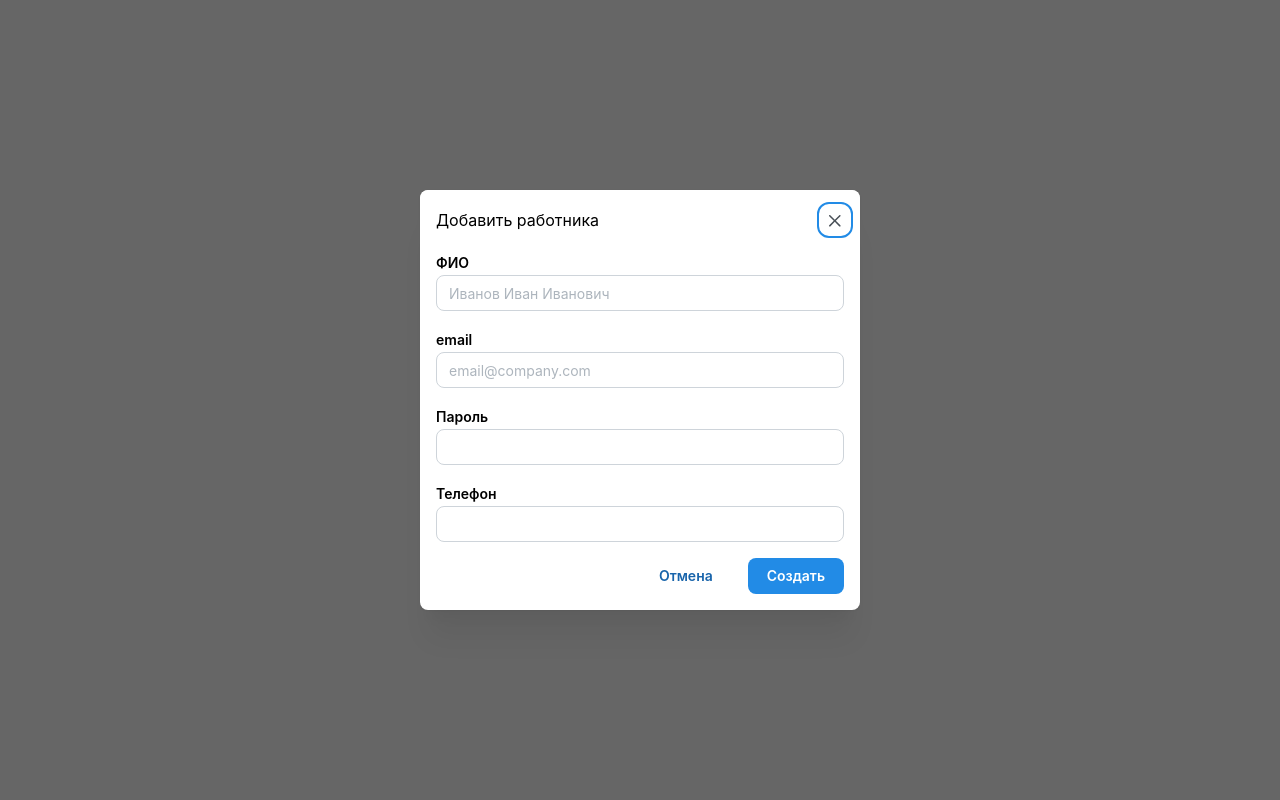
Test: AddWorkersModal › показывает ошибки валидации при пустом вводе
Click the button "Создать".
click(796, 576)  # box [748,558,844,594]
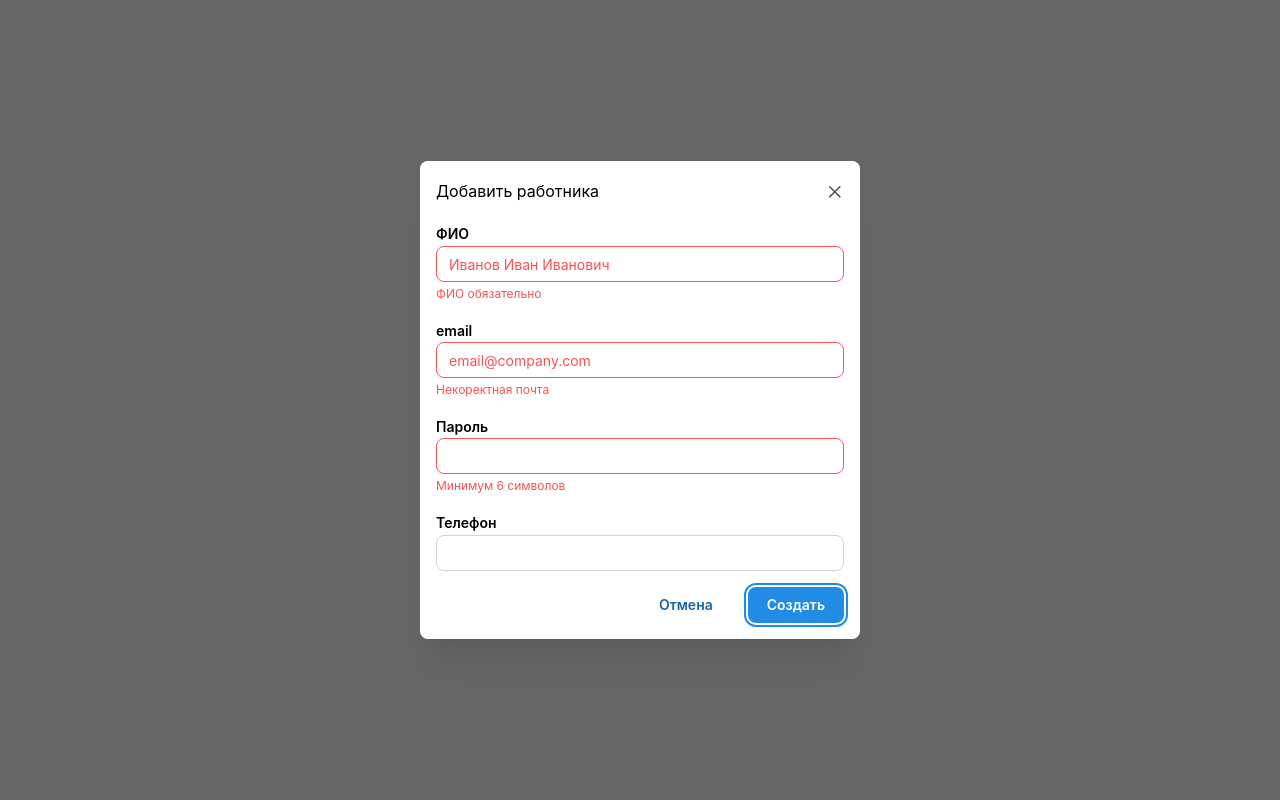
Expected: the text "ФИО обязательно" is shown, [436,286,541,301]
Expected: the text "Некоректная почта" is shown, [436,382,549,397]
Expected: the text "Минимум 6 символов" is shown, [436,478,565,494]
